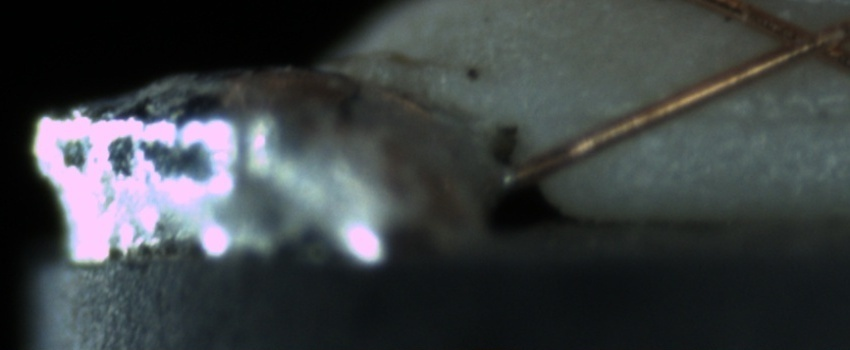CL: (749, 8, 848, 75)
DL: (629, 86, 849, 144)
